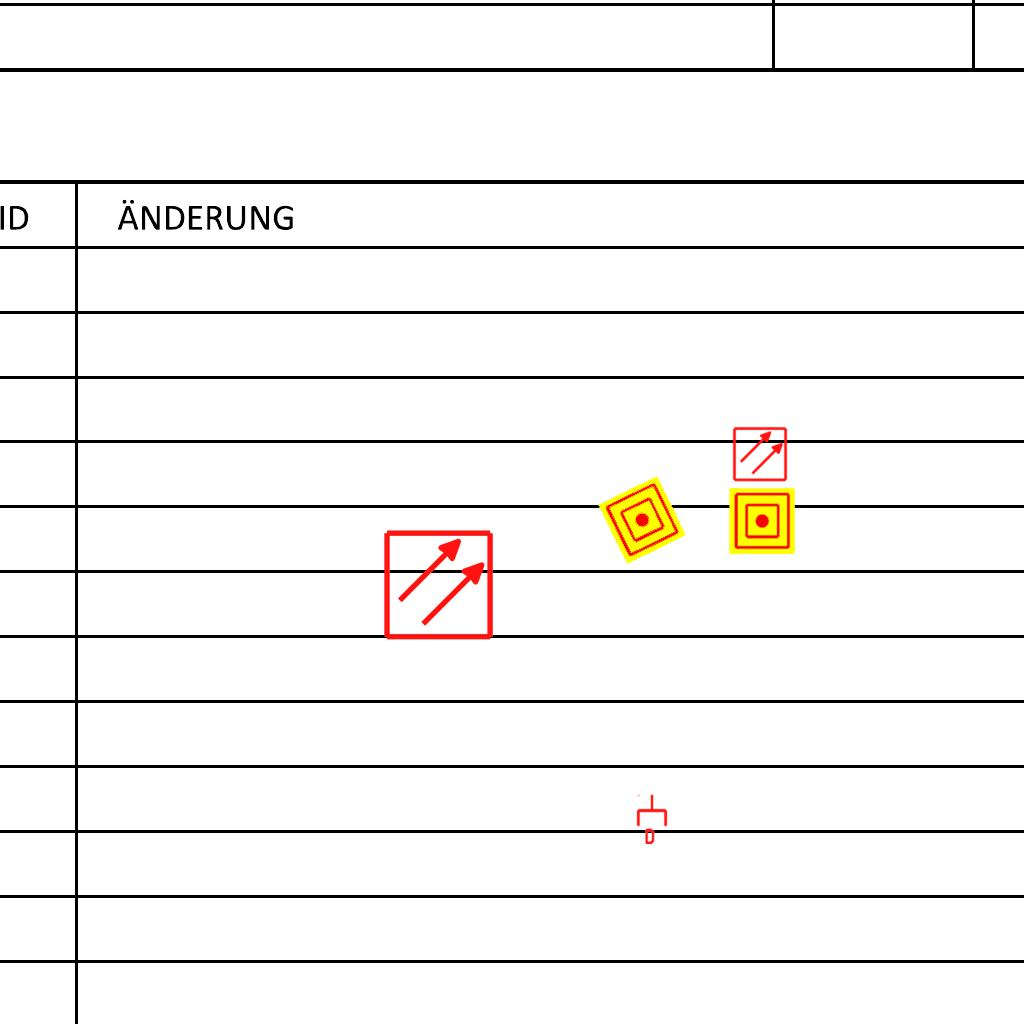Datenanschluss_einfach: (635, 794, 669, 844)
NAM-Nichtautomatischer_Melder: (597, 475, 687, 565), (729, 488, 795, 554)
RMO_Rauchmelder_optischer: (382, 528, 495, 641), (732, 426, 788, 482)
